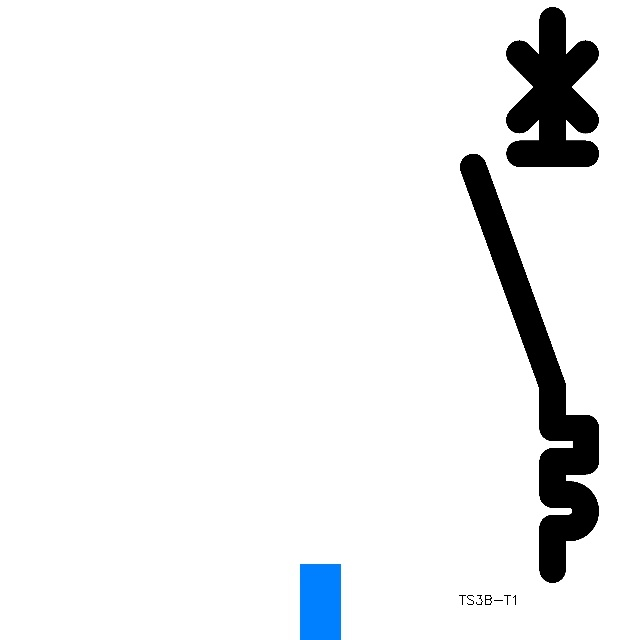interruptor_termomagnetico: (459, 6, 600, 584)
